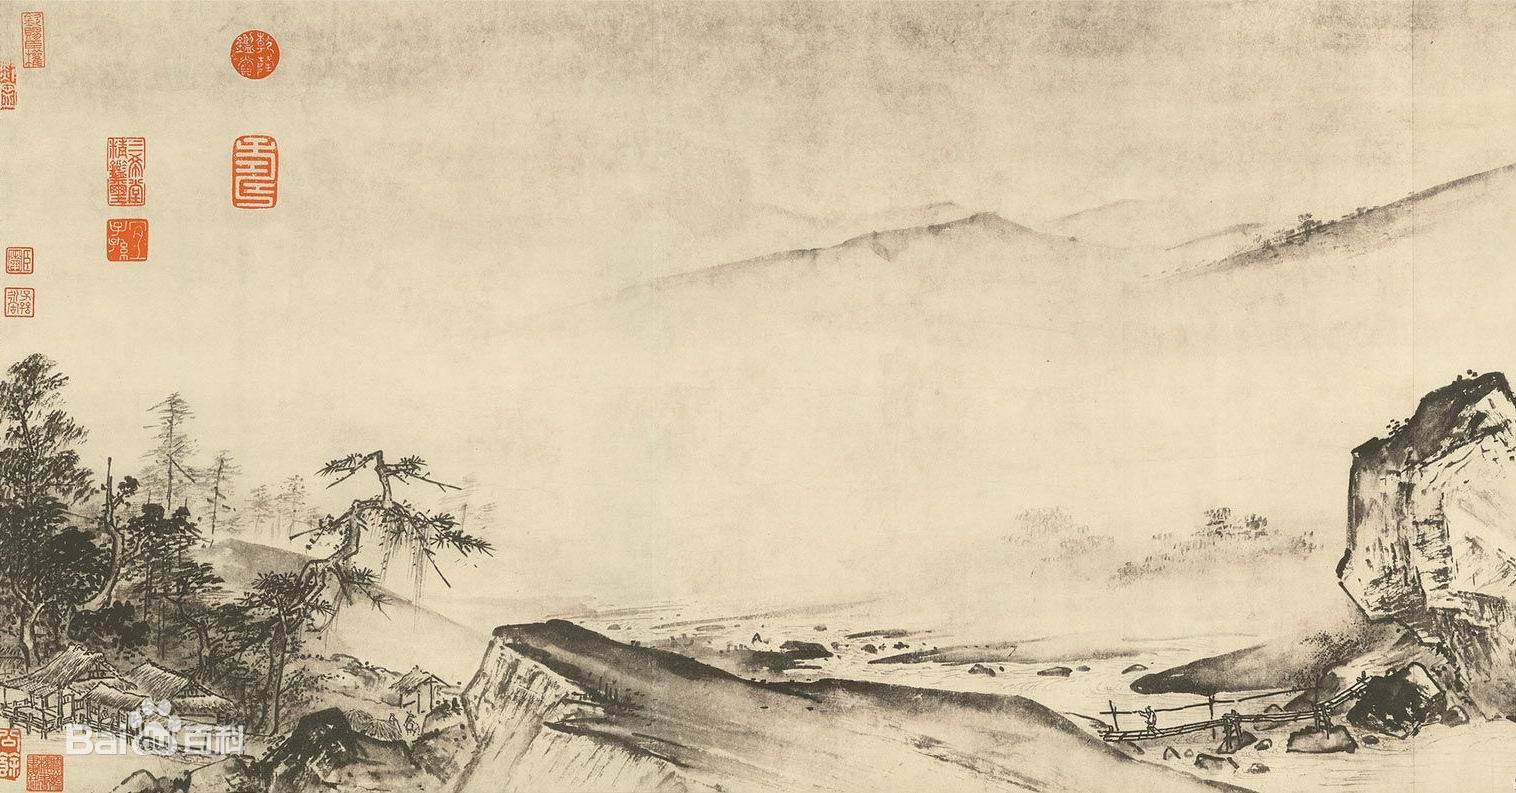bridge: (1084, 665, 1389, 761)
hill: (1326, 344, 1516, 698), (449, 604, 797, 793)
house: (2, 637, 262, 740), (384, 658, 454, 708)
man: (1132, 701, 1161, 737)
range: (608, 144, 1516, 305)
river: (774, 612, 1181, 717)
tree: (231, 430, 493, 751), (4, 349, 144, 659), (137, 505, 256, 684), (137, 389, 229, 531)
